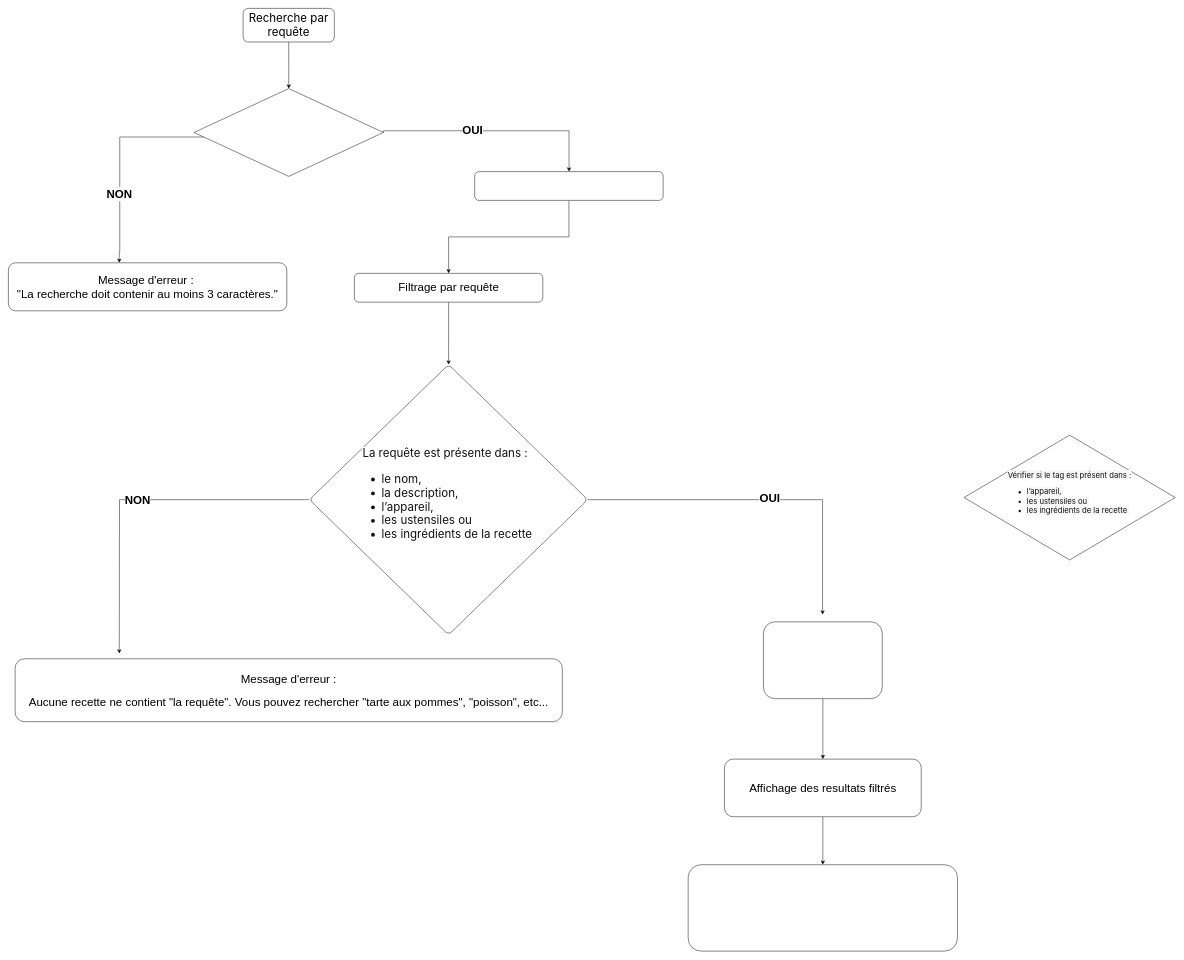
Some shapes in this 1184 by 960 pixel diagram are drawn without their labels. Here are the shapes that lost their labels. From the top down, the centre of each, then its label:
At [288,132]: "Longueur de la requête : sup. ou égale 3 caractères.".
At [568,185]: "choix méthode de filtrage".
At [822,660]: "Recette ajoutée aux résultats filtrés".
At [822,907]: "Mise à jour des tags dans listes des : ingredients, appareil ustensile".
